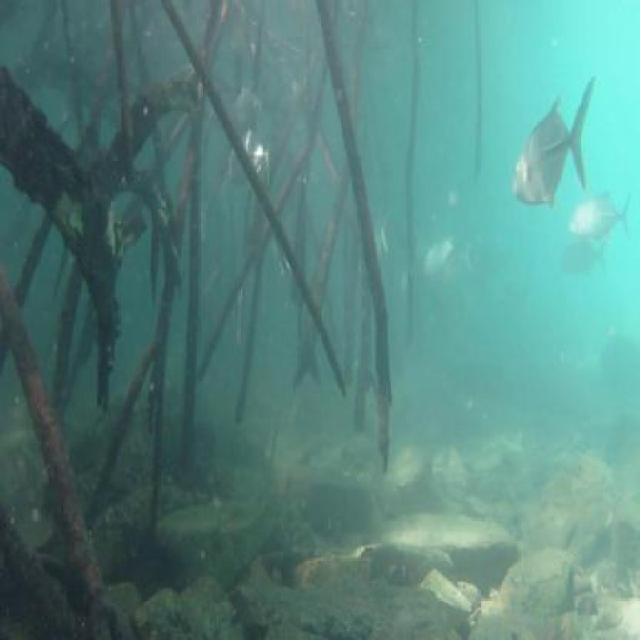Caranx_sexfasciatus_juvenile: (505, 75, 597, 212), (412, 221, 478, 288), (562, 192, 635, 246), (228, 120, 283, 186), (553, 238, 613, 291), (225, 76, 270, 133), (360, 200, 394, 257)
